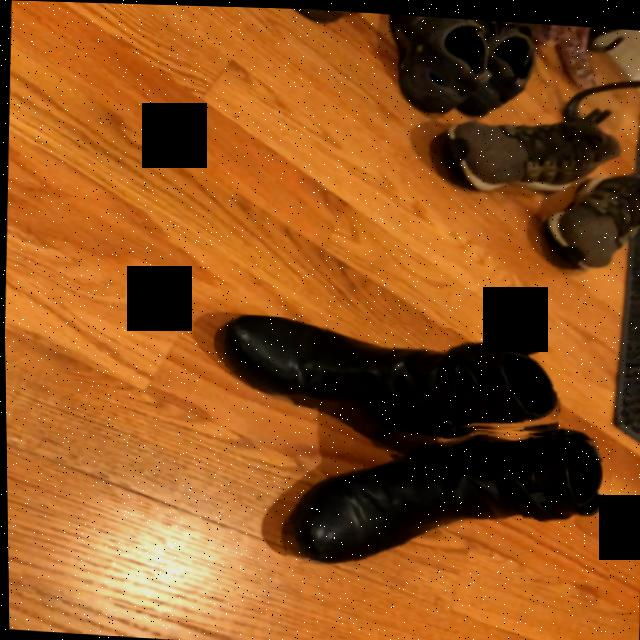shoe: (284, 433, 609, 561), (224, 315, 559, 425)
